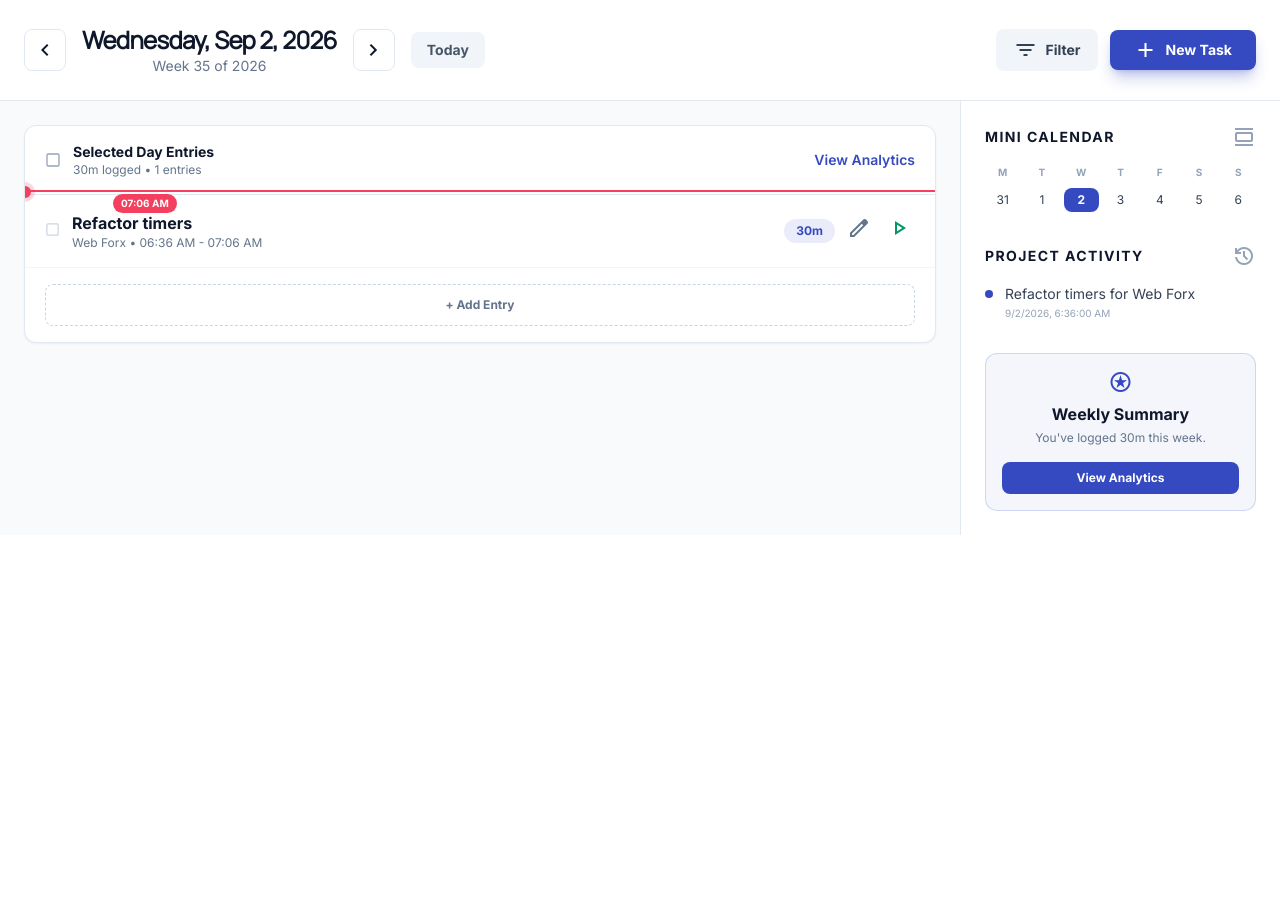
Test: UAT remediation regressions › opens timeline add/edit entry modal flows in place
The image size is (1280, 900).
Click the button "New Task".
click(1183, 50)  # box x1=1110 y1=30 x2=1256 y2=70
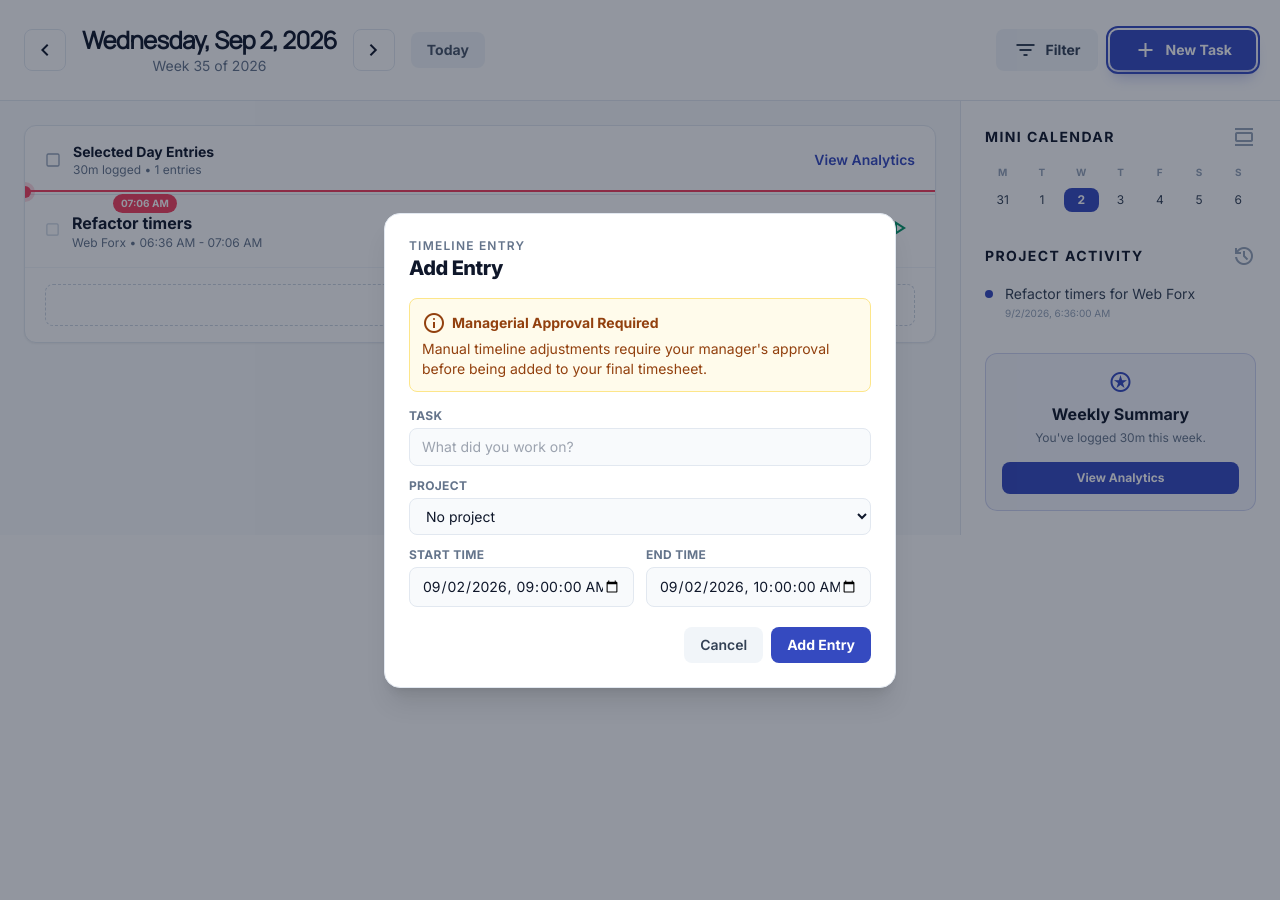
Now the heading "Add Entry" is shown, box x1=409 y1=256 x2=503 y2=280
Click the button "Cancel".
click(724, 644)  # box x1=684 y1=626 x2=763 y2=662
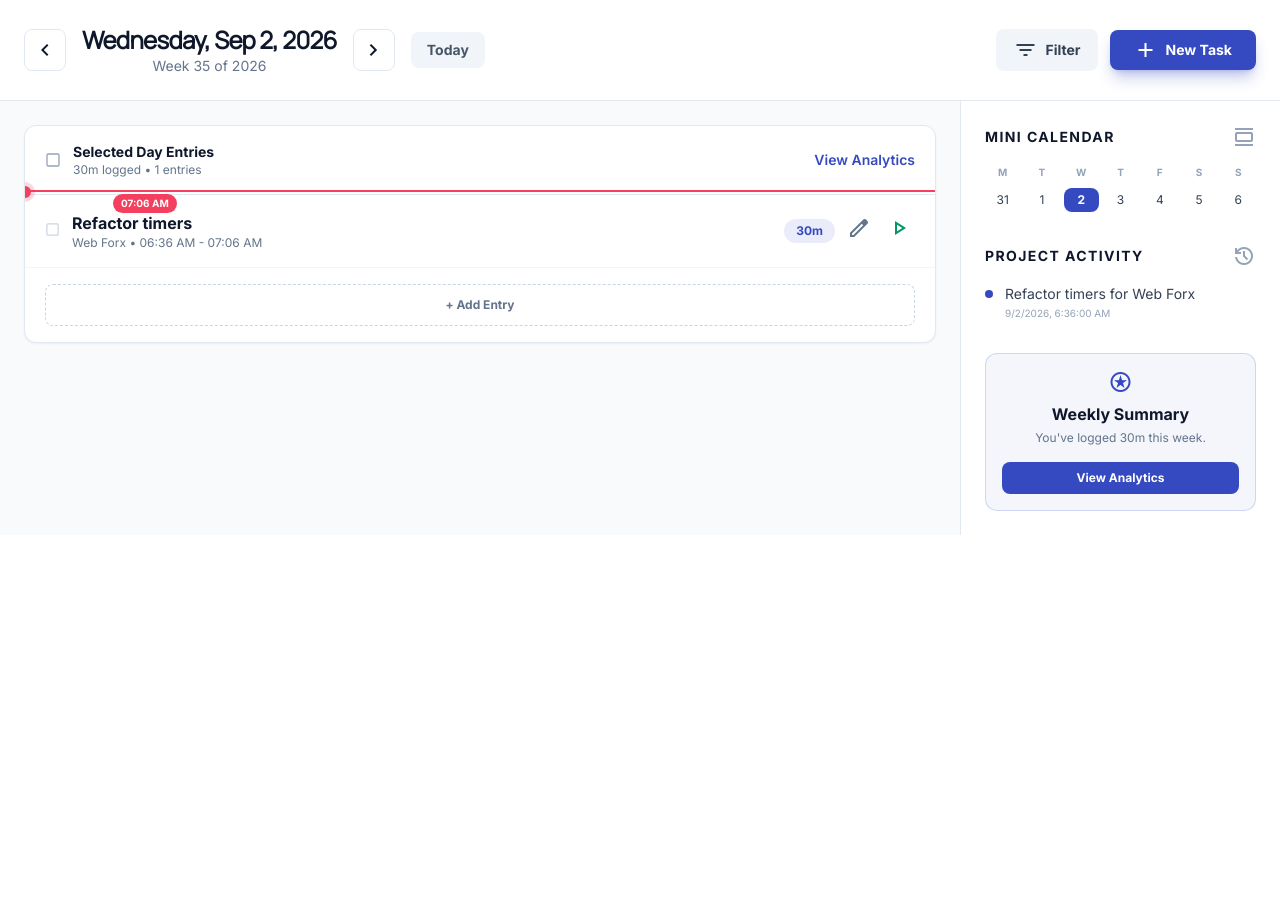
Click the button titled "Edit entry".
click(859, 231)  # box x1=843 y1=212 x2=875 y2=250
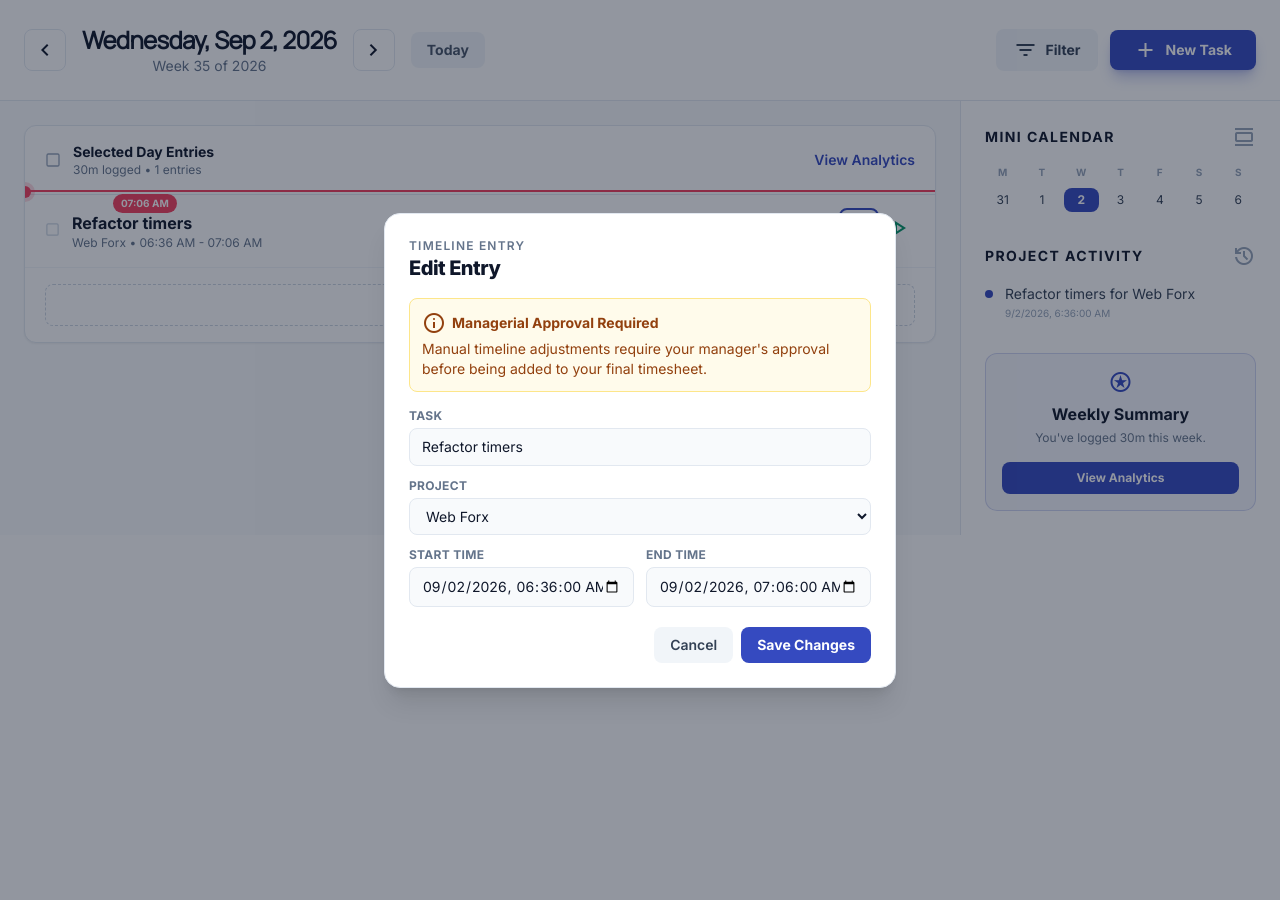
Now the heading "Edit Entry" is shown, box x1=409 y1=256 x2=500 y2=280
Now the 1st field showing "Refactor timers" is shown, box x1=409 y1=428 x2=871 y2=466
